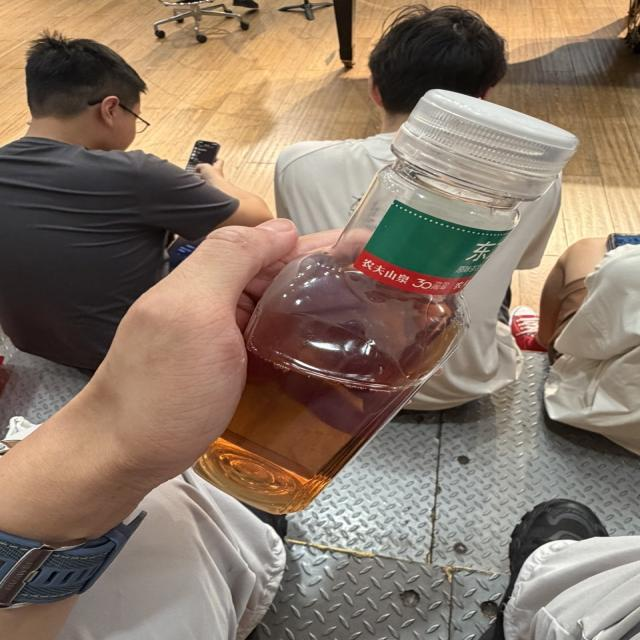medium: (195, 91, 577, 513)
